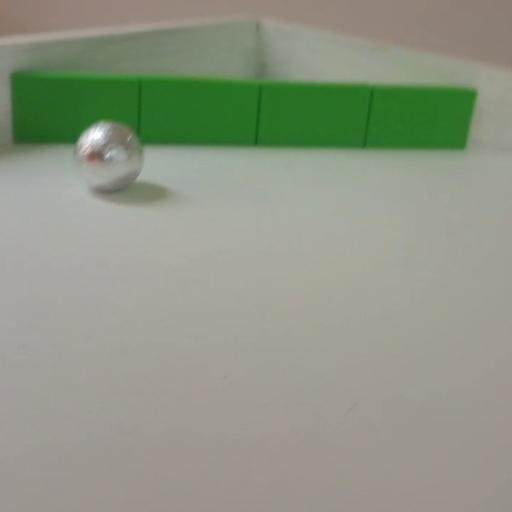alive: (74, 120, 142, 192)
